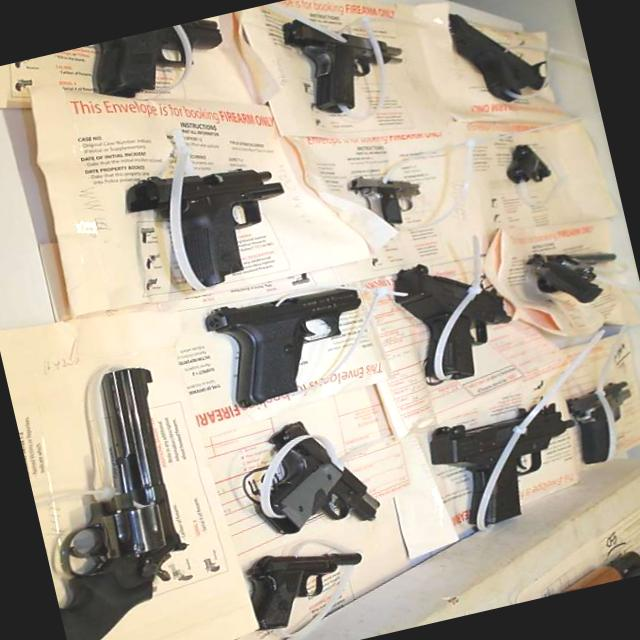handgun: (12, 362, 232, 639), (121, 130, 310, 303), (189, 274, 393, 422), (232, 408, 391, 550), (265, 0, 422, 121), (229, 537, 381, 639), (510, 220, 630, 324), (318, 158, 450, 236), (495, 137, 559, 198)
